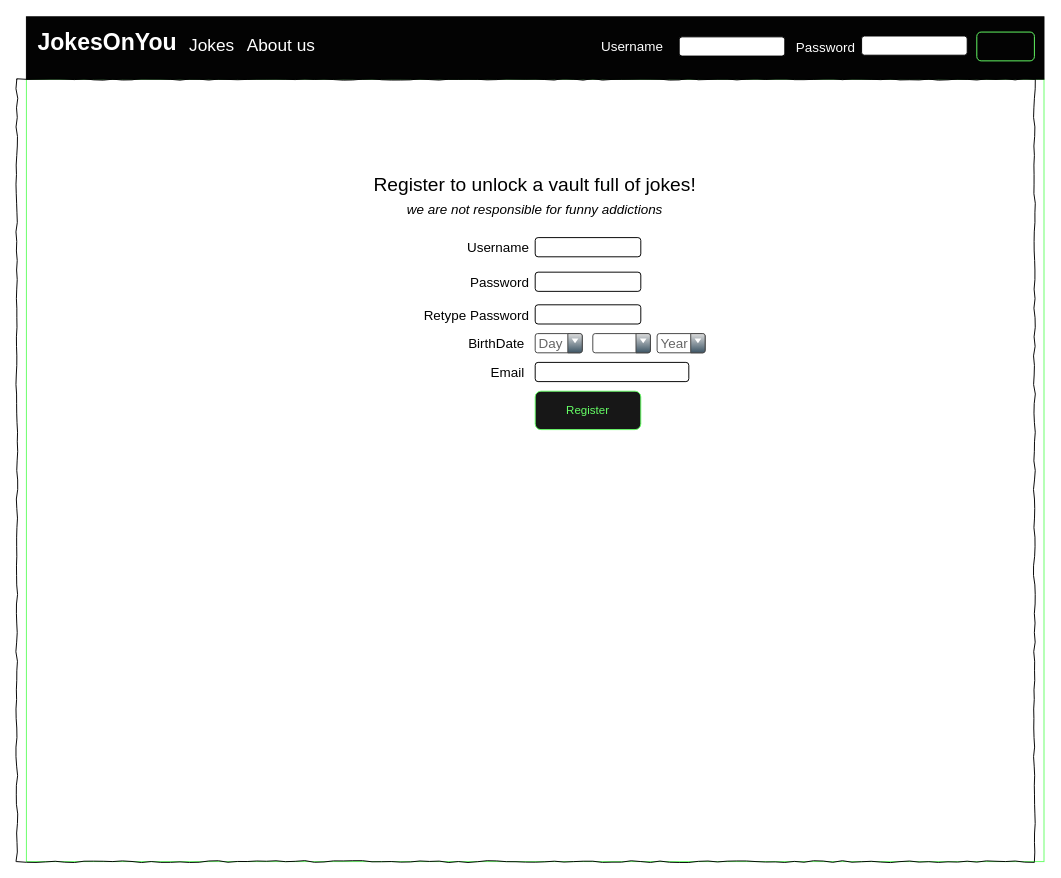
The diagram is 1061 pixels wide and 878 high, and some of its shapes have lost their labels. Here are the shapes that lost their labels. From the top down, the centre of each, then its label:
At pixel 1005 46: "Login".
At pixel 621 343: "Month".
